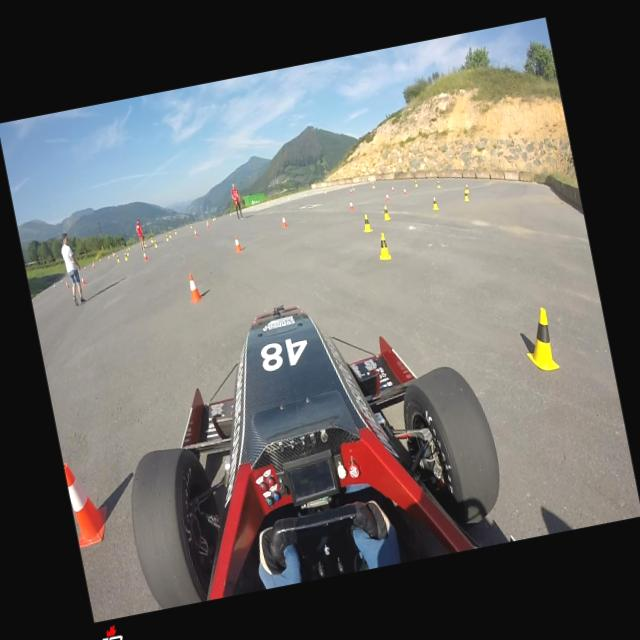orange_cone: (64, 458, 112, 547), (186, 272, 204, 302), (232, 235, 244, 252), (280, 215, 288, 228), (348, 200, 354, 211), (384, 192, 390, 202), (80, 276, 86, 286), (142, 251, 148, 261), (403, 187, 407, 195), (65, 280, 69, 288), (194, 229, 198, 237), (391, 185, 395, 192), (92, 264, 95, 268), (207, 224, 209, 228), (207, 221, 209, 225), (230, 213, 232, 217), (108, 256, 110, 260), (112, 253, 114, 257), (54, 285, 56, 289), (62, 280, 64, 284), (99, 258, 101, 262), (350, 189, 352, 193)
yellow_cone: (518, 306, 560, 374), (374, 232, 392, 262), (361, 214, 374, 234), (430, 196, 440, 211), (382, 205, 391, 221), (462, 190, 470, 202), (464, 184, 470, 194), (436, 181, 441, 189), (124, 252, 128, 262), (414, 180, 418, 188), (126, 248, 130, 256), (116, 255, 120, 262), (165, 234, 169, 241), (372, 182, 376, 188), (150, 237, 154, 243), (154, 240, 157, 248), (168, 232, 172, 238), (144, 241, 147, 247), (174, 230, 177, 234), (38, 294, 40, 300), (305, 192, 307, 197), (128, 246, 130, 250), (190, 224, 192, 228), (214, 216, 216, 220), (324, 189, 326, 193), (352, 187, 354, 190), (93, 262, 95, 264), (85, 267, 86, 270)
